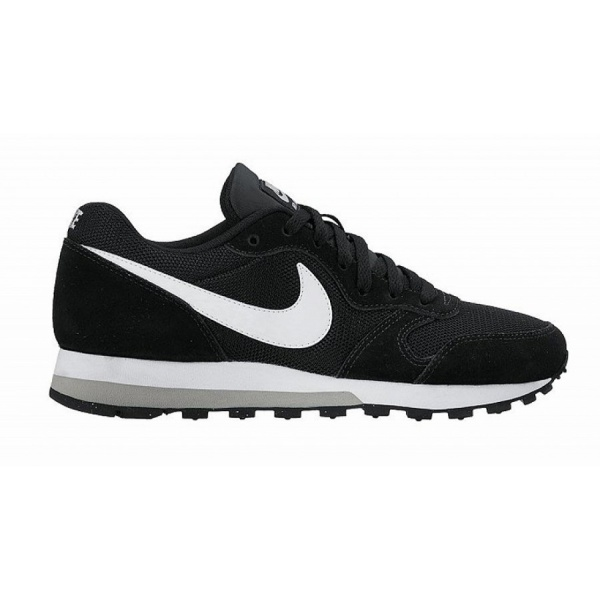nike: (79, 239, 336, 364)
